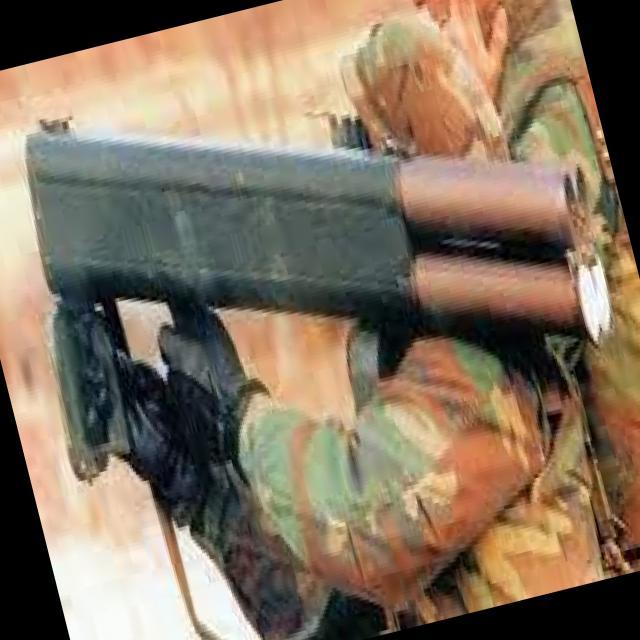rocket: (11, 0, 624, 485)
